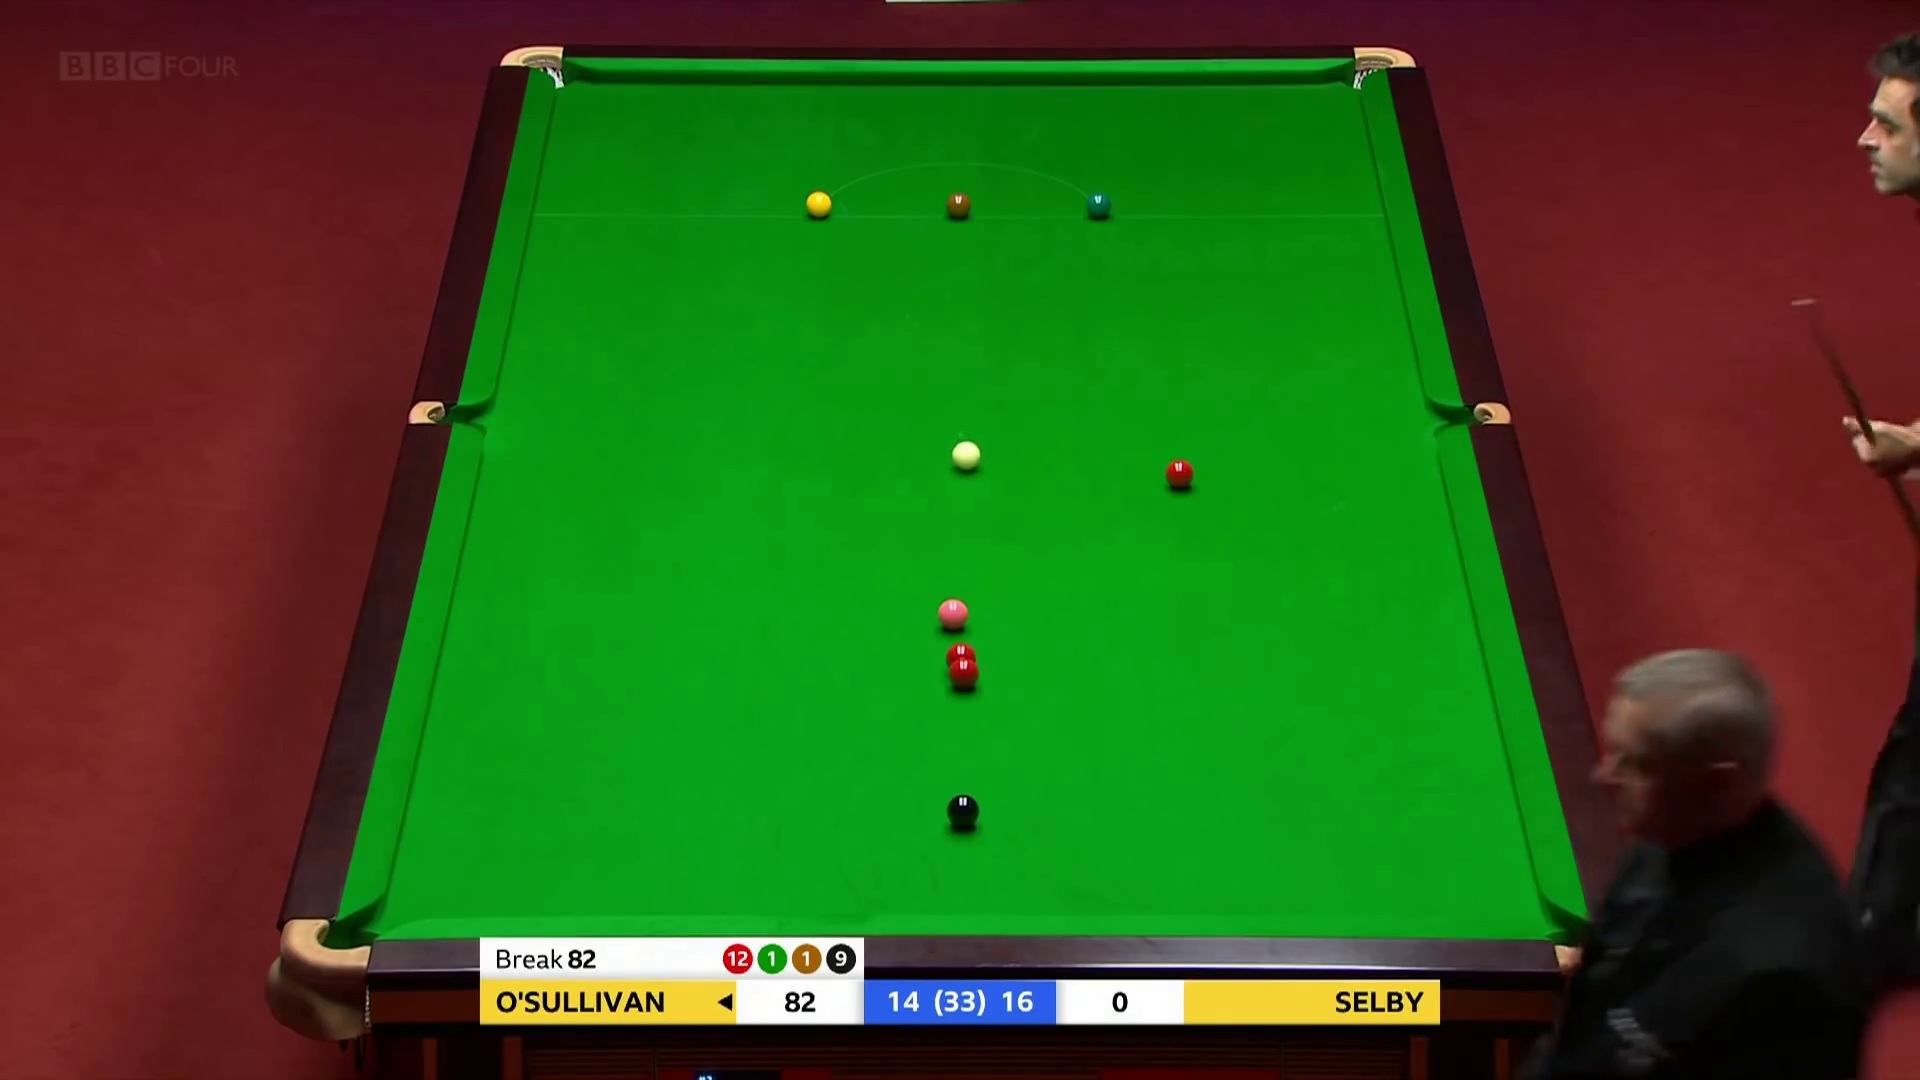black: (943, 793, 985, 833)
brown: (942, 189, 975, 223)
green: (1083, 189, 1118, 227)
pink: (934, 593, 975, 637)
red: (943, 642, 982, 679), (1163, 455, 1197, 496), (948, 654, 982, 692)
white: (948, 439, 984, 473)
yellow: (803, 187, 840, 224)
